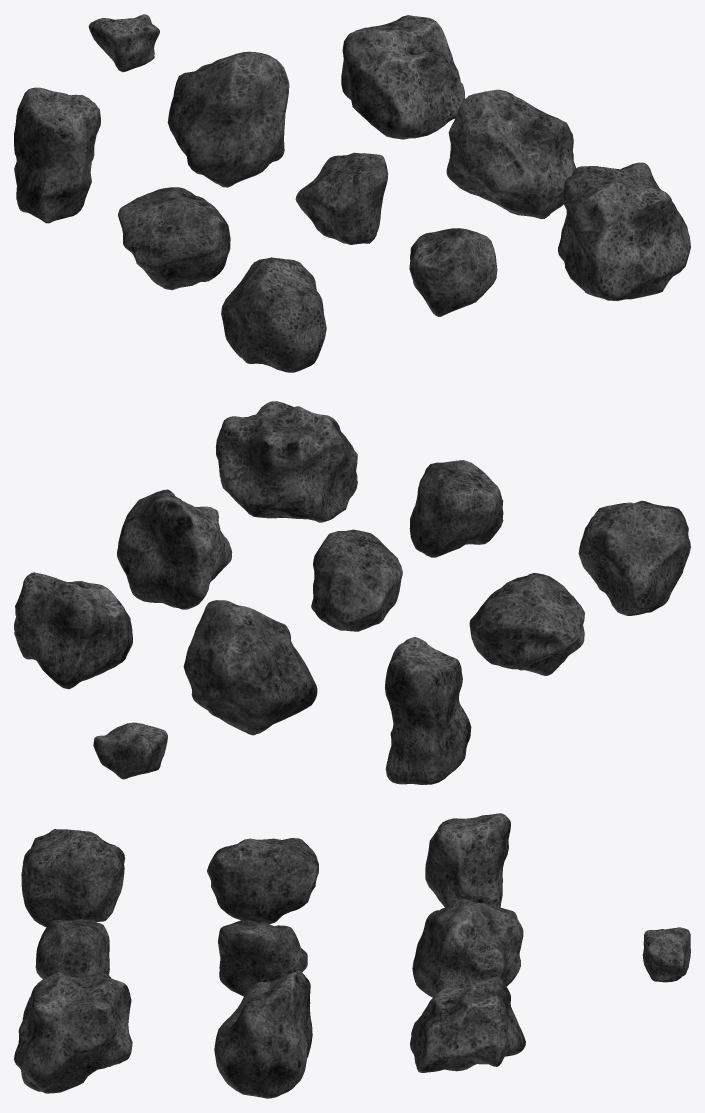
The model's file is asteroids_rocky.glb.
3 renders of one model, top to bottom at view 1: azimuth 30°, elevation 25°; view 2: azimuth 150°, elevation 25°; view 3: azimuth 270°, elevation 25°, orthographic. The views are drawn at different scales.
Parts seen in each view (by area): view 1: Asteroid_no_1_Material #3_0, Asteroid_no_8_Material #3_0, Asteroid_no_4_Material #3_0, Asteroid_no_7_Material #3_0, Asteroid_no_9_Material #3_0, Asteroid_no_3_Material #3_0, Asteroid_no_6_Material #3_0, Asteroid_no_5_Material #3_0, Asteroid_no_2_Material #3_0, Asteroid_no_10_Material #3_0; view 2: Asteroid_no_1_Material #3_0, Asteroid_no_8_Material #3_0, Asteroid_no_7_Material #3_0, Asteroid_no_9_Material #3_0, Asteroid_no_4_Material #3_0, Asteroid_no_3_Material #3_0, Asteroid_no_6_Material #3_0, Asteroid_no_5_Material #3_0, Asteroid_no_2_Material #3_0, Asteroid_no_10_Material #3_0; view 3: Asteroid_no_1_Material #3_0, Asteroid_no_4_Material #3_0, Asteroid_no_3_Material #3_0, Asteroid_no_8_Material #3_0, Asteroid_no_7_Material #3_0, Asteroid_no_6_Material #3_0, Asteroid_no_9_Material #3_0, Asteroid_no_5_Material #3_0, Asteroid_no_2_Material #3_0, Asteroid_no_10_Material #3_0.
Part boxes in pixels (<box>): Asteroid_no_1_Material #3_0: <box>558,162,690,301</box>; Asteroid_no_8_Material #3_0: <box>167,51,289,187</box>; Asteroid_no_4_Material #3_0: <box>446,89,576,219</box>; Asteroid_no_7_Material #3_0: <box>341,15,464,139</box>; Asteroid_no_9_Material #3_0: <box>14,87,100,223</box>; Asteroid_no_3_Material #3_0: <box>221,257,326,372</box>; Asteroid_no_6_Material #3_0: <box>118,187,230,290</box>; Asteroid_no_5_Material #3_0: <box>295,152,388,244</box>; Asteroid_no_2_Material #3_0: <box>409,228,497,316</box>; Asteroid_no_10_Material #3_0: <box>88,14,159,72</box>; Asteroid_no_1_Material #3_0: <box>216,401,357,522</box>; Asteroid_no_8_Material #3_0: <box>183,600,317,735</box>; Asteroid_no_7_Material #3_0: <box>14,572,132,689</box>; Asteroid_no_9_Material #3_0: <box>385,637,471,784</box>; Asteroid_no_4_Material #3_0: <box>117,489,232,609</box>; Asteroid_no_3_Material #3_0: <box>578,500,690,615</box>; Asteroid_no_6_Material #3_0: <box>469,573,584,675</box>; Asteroid_no_5_Material #3_0: <box>311,529,402,631</box>; Asteroid_no_2_Material #3_0: <box>409,460,503,557</box>; Asteroid_no_10_Material #3_0: <box>93,722,167,779</box>; Asteroid_no_1_Material #3_0: <box>14,972,132,1093</box>; Asteroid_no_4_Material #3_0: <box>214,971,312,1098</box>; Asteroid_no_3_Material #3_0: <box>21,829,125,927</box>; Asteroid_no_8_Material #3_0: <box>412,899,523,997</box>; Asteroid_no_7_Material #3_0: <box>410,977,525,1072</box>; Asteroid_no_6_Material #3_0: <box>207,838,318,923</box>; Asteroid_no_9_Material #3_0: <box>425,813,510,907</box>; Asteroid_no_5_Material #3_0: <box>218,920,307,996</box>; Asteroid_no_2_Material #3_0: <box>35,919,109,978</box>; Asteroid_no_10_Material #3_0: <box>642,927,690,982</box>.
Size of the model in its own units: 34.3 by 9.09 by 48.14.
Materials: 1 (1 with a texture image).
